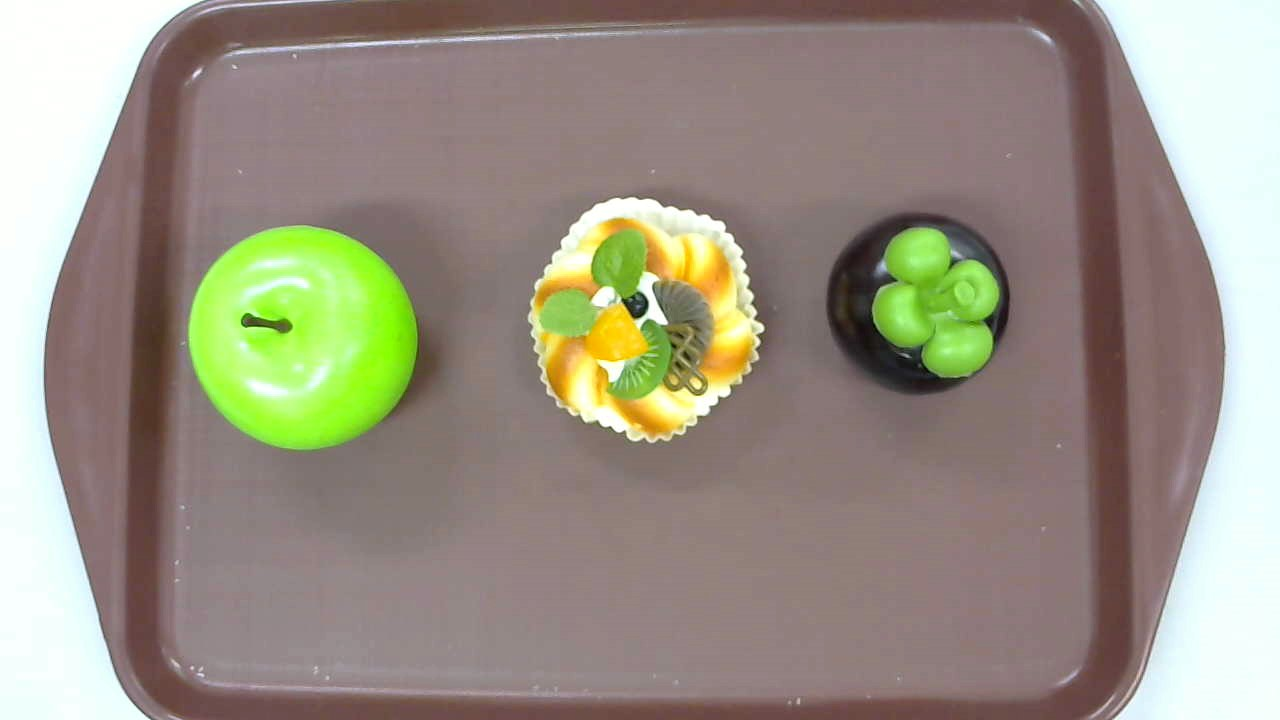fruit tart: (527, 196, 766, 442)
green apple: (188, 226, 418, 453)
mangosteen: (826, 210, 1012, 400)
